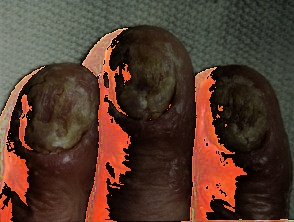Nail_psoriasis: (84, 16, 212, 149), (0, 44, 120, 180), (190, 64, 292, 180)
